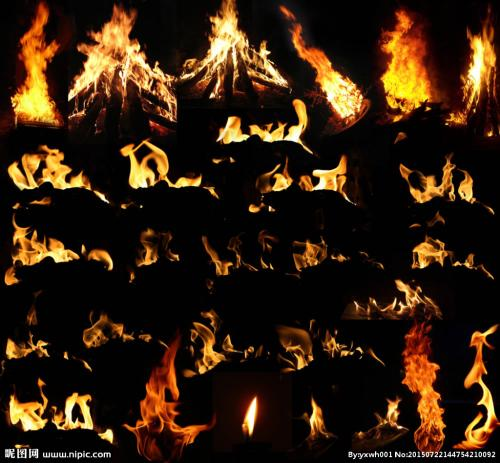fire: (133, 370, 198, 456), (76, 18, 163, 80), (15, 13, 61, 122), (377, 31, 434, 105), (406, 342, 443, 447), (124, 146, 207, 192), (305, 54, 367, 113), (467, 330, 499, 441), (399, 161, 479, 204), (14, 398, 101, 431), (202, 12, 257, 62), (461, 32, 495, 106), (14, 231, 88, 265), (221, 118, 307, 144), (16, 157, 84, 187), (194, 313, 229, 367), (408, 240, 467, 269), (307, 166, 351, 190), (244, 397, 258, 435)
